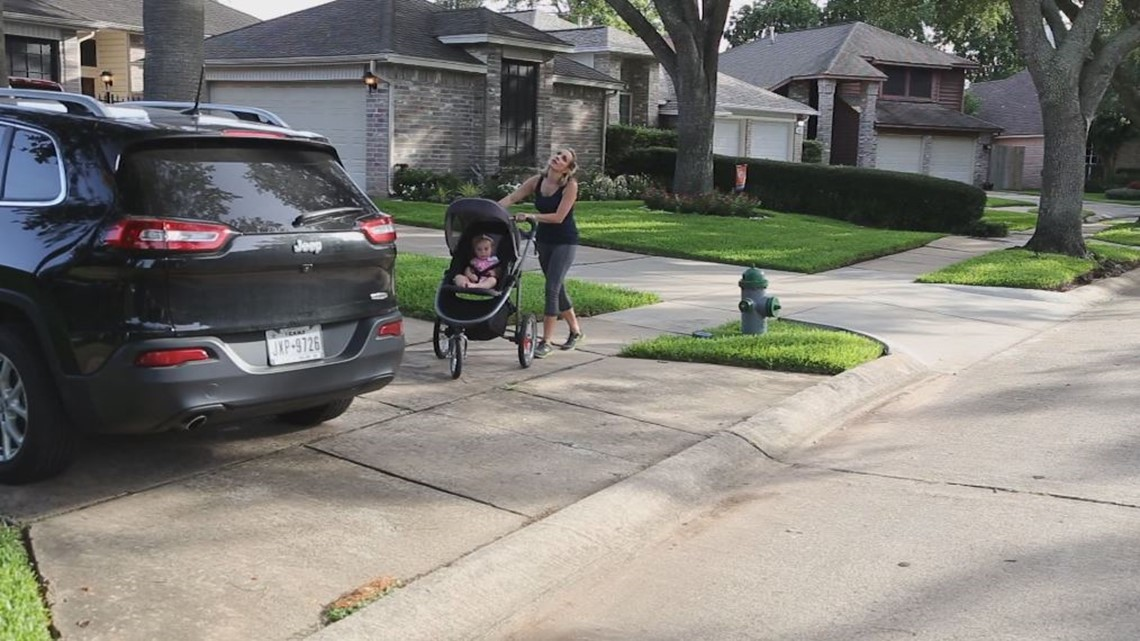Car: (8, 74, 419, 481)
Person: (509, 140, 591, 364)
Tree: (1009, 12, 1133, 257), (609, 6, 740, 204)
